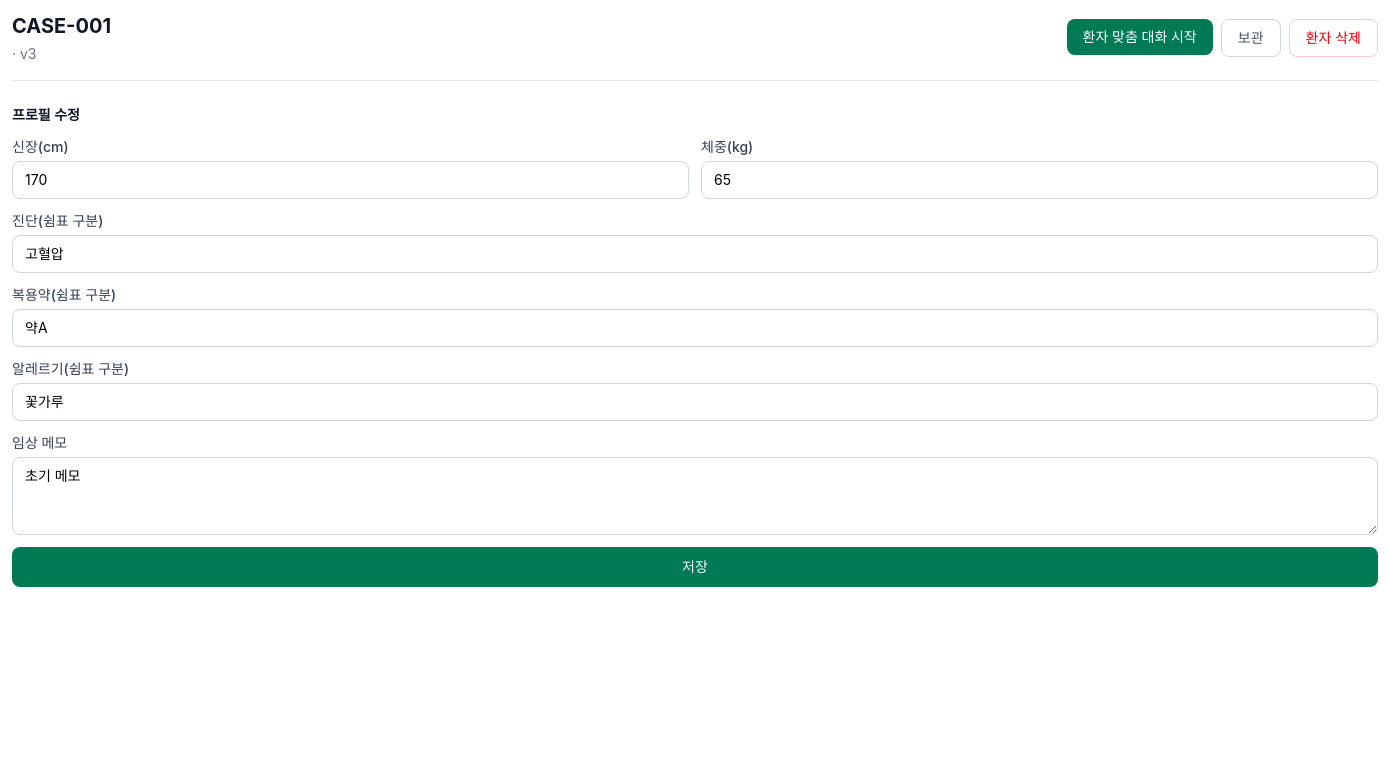
Test case: 환자 상세 삭제 › 환자 삭제 버튼은 확인을 먼저 띄우고, 대화까지 지워지는 범위를 밝힌다
Click the button "환자 삭제" at x=1333, y=38, box x1=1288 y1=19 x2=1378 y2=57
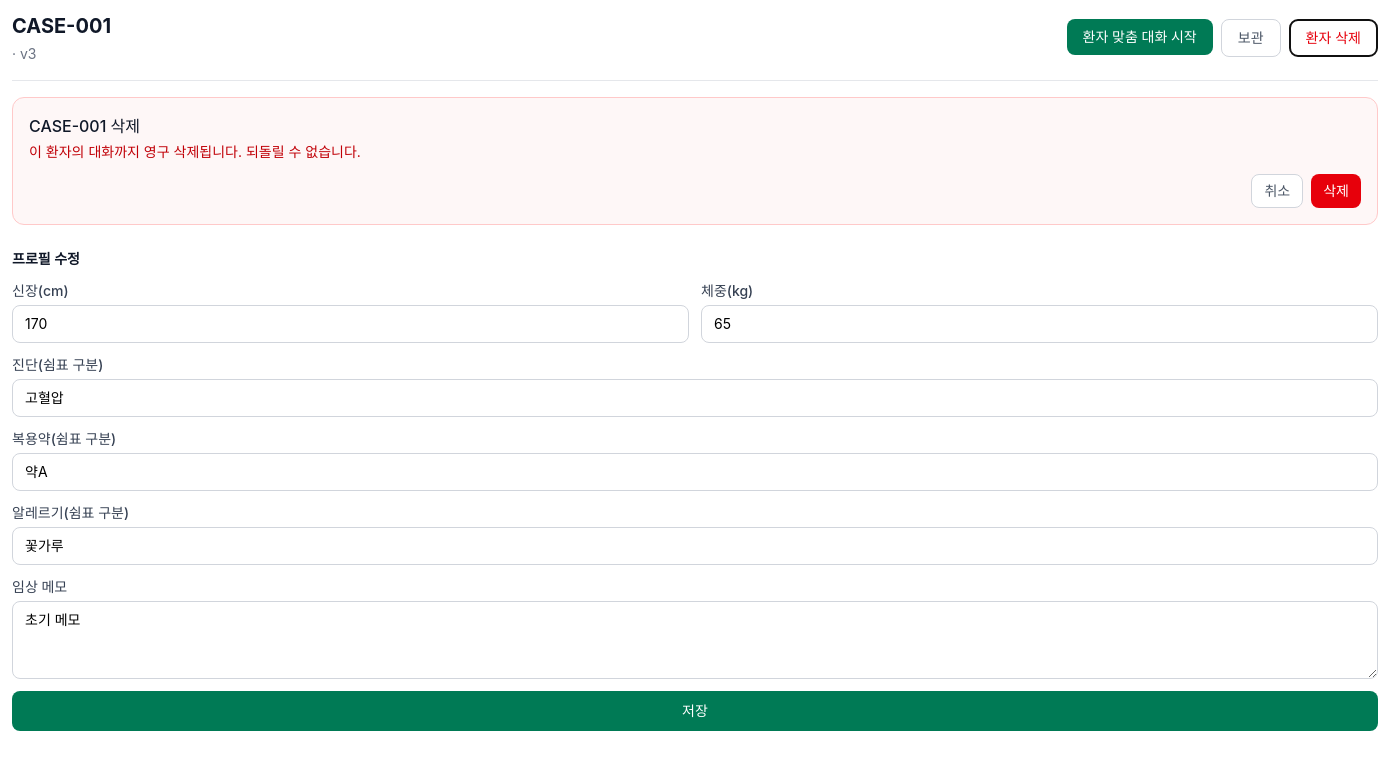
Expected: the text "이 환자의 대화까지 영구 삭제됩니다. 되돌릴 수 없습니다." is shown, x1=29 y1=143 x2=361 y2=160
